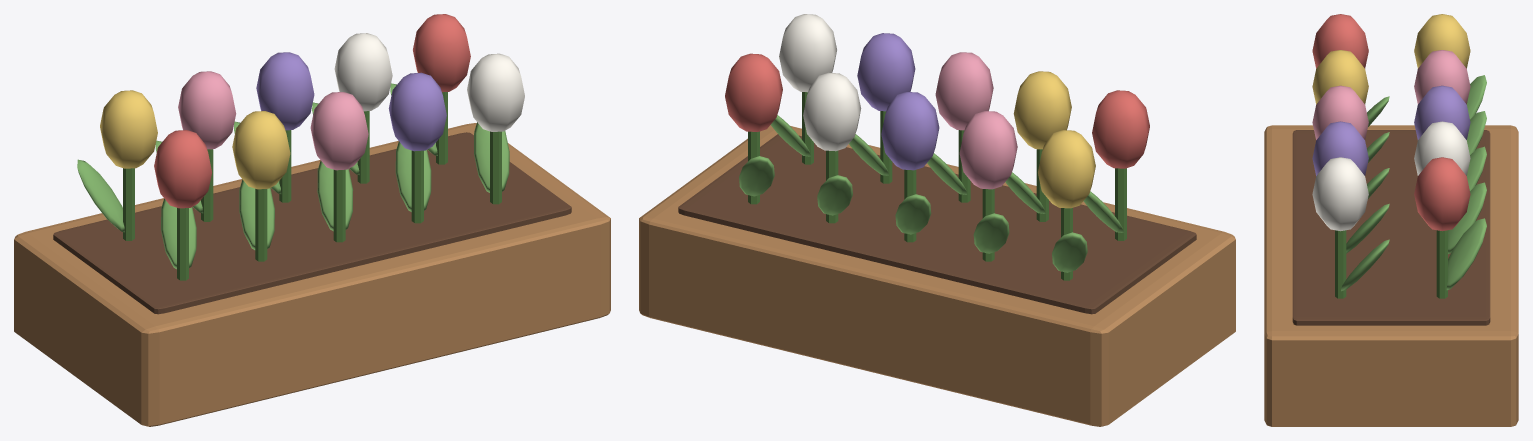
File: flower_bed.glb
The picture shows the model from 3 angles, left to right: view 1: azimuth 30°, elevation 25°; view 2: azimuth 150°, elevation 25°; view 3: azimuth 270°, elevation 25°; orthographic projection. The views are drawn at different scales.
Visible parts, largest first — view 1: flower_bed; view 2: flower_bed; view 3: flower_bed.
Boxes of the visible parts, left/top/right/bottom form: flower_bed: left=14, top=14, right=610, bottom=426; flower_bed: left=639, top=14, right=1235, bottom=426; flower_bed: left=1264, top=14, right=1518, bottom=426.
Bounding box in the file's own units: 1.8 × 0.92 × 0.9.
